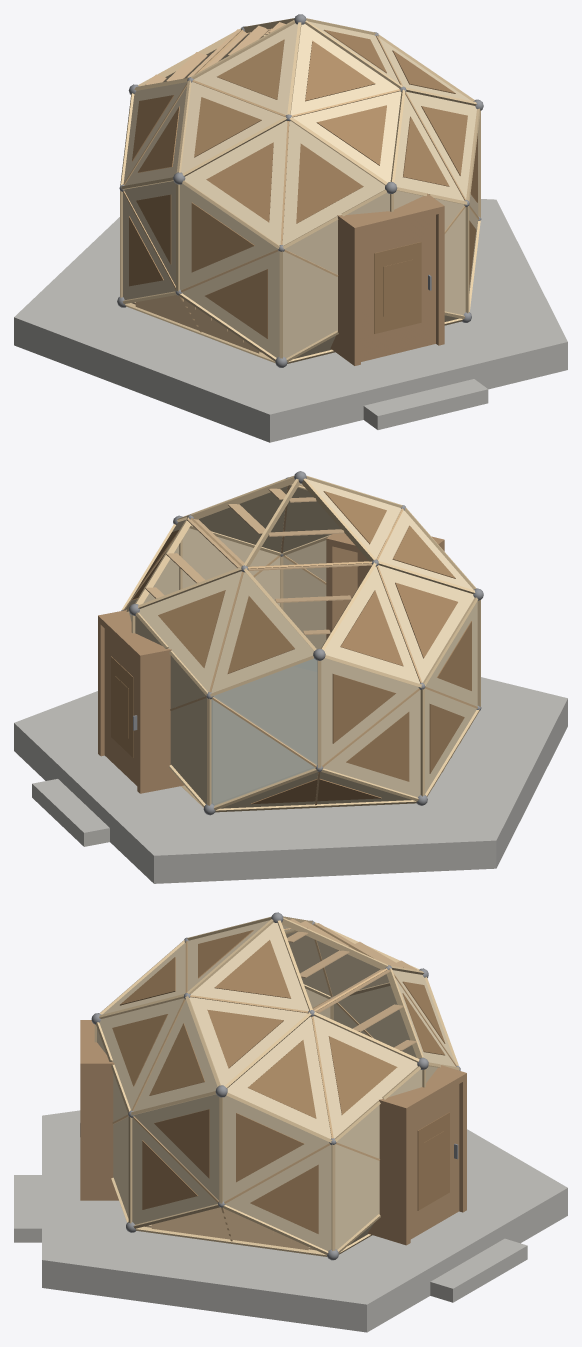
The model's file is dormi_aureo_b.glb.
3 renders of one model, top to bottom at view 1: azimuth 30°, elevation 25°; view 2: azimuth 150°, elevation 25°; view 3: azimuth 270°, elevation 25°, orthographic.
Parts seen in each view (by area): view 1: base_podio, cerramiento_panel, cerramiento_incrustacion, estructura_madera_icosaedro, puerta_hoja_1, puertas_puerta, detalles_persiana, estructura_madera_dodecaedro, detalles_acero; view 2: base_podio, cerramiento_panel, cerramiento_incrustacion, estructura_madera_icosaedro, ventanas_vidrio, base_piso, puertas_puerta, puerta_hoja_2, detalles_persiana, estructura_madera_dodecaedro, detalles_acero; view 3: cerramiento_panel, base_podio, cerramiento_incrustacion, puertas_puerta, estructura_madera_icosaedro, puerta_hoja_2, detalles_persiana, estructura_madera_dodecaedro, detalles_acero.
Boxes of the visible parts, x1,y1,x2,y2 form: base_podio: (14,199,567,442); cerramiento_panel: (123,21,478,358); cerramiento_incrustacion: (129,29,477,338); estructura_madera_icosaedro: (120,18,480,363); puerta_hoja_1: (361,214,435,361); puertas_puerta: (330,193,444,365); detalles_persiana: (135,22,285,353); estructura_madera_dodecaedro: (123,29,479,332); detalles_acero: (117,14,483,367); base_podio: (14,677,567,883); cerramiento_panel: (125,479,477,808); cerramiento_incrustacion: (132,491,471,804); estructura_madera_icosaedro: (121,475,480,812); ventanas_vidrio: (211,658,317,805); base_piso: (213,666,316,803); puertas_puerta: (98,533,444,793); puerta_hoja_2: (104,628,137,785); detalles_persiana: (145,488,469,785); estructura_madera_dodecaedro: (123,484,477,805); detalles_acero: (121,471,483,815); cerramiento_panel: (97,920,455,1250); base_podio: (14,1110,567,1332); cerramiento_incrustacion: (112,930,445,1233); puertas_puerta: (80,1020,466,1245); estructura_madera_icosaedro: (94,916,459,1256); puerta_hoja_2: (410,1084,459,1239); detalles_persiana: (151,918,416,1250); estructura_madera_dodecaedro: (112,923,456,1241); detalles_acero: (91,912,460,1260).
Size of the model in its own units: 7.85 by 4.75 by 7.87.
